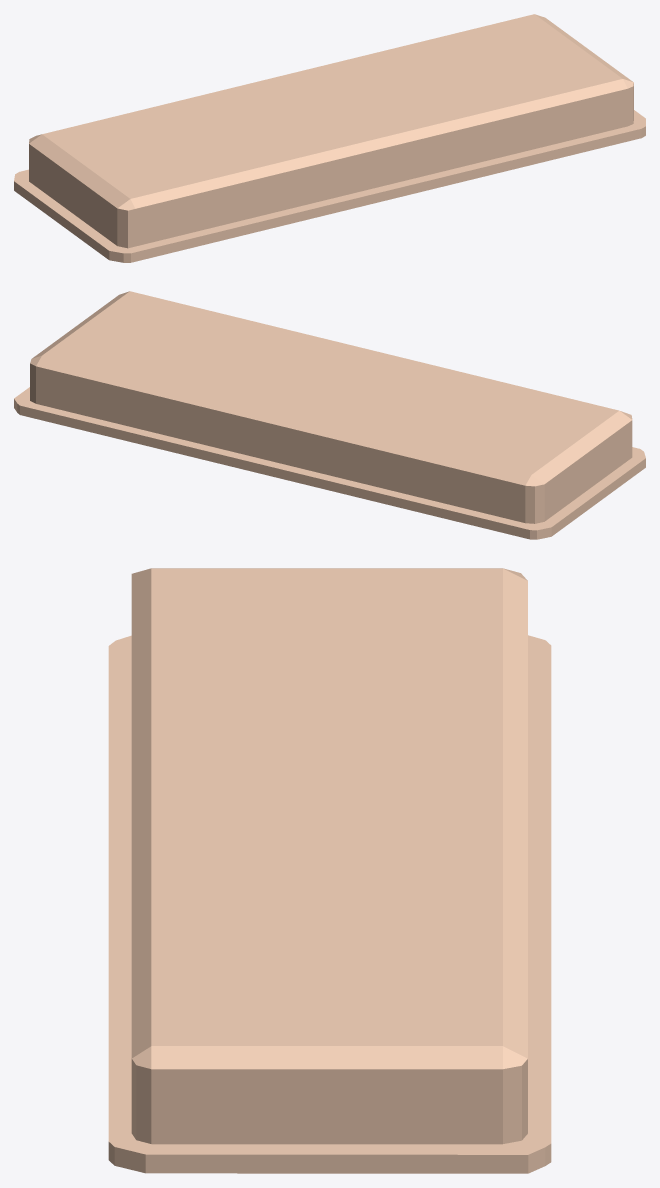
The model's file is EggCartonTop.fbx.
The picture shows the model from 3 angles, top to bottom: view 1: azimuth 30°, elevation 25°; view 2: azimuth 150°, elevation 25°; view 3: azimuth 270°, elevation 25°; orthographic projection. The views are drawn at different scales.
Parts seen in each view (by area): view 1: EggCartonTop; view 2: EggCartonTop; view 3: EggCartonTop.
Part boxes in pixels (bbox=[...]): EggCartonTop: bbox=[14, 14, 645, 262]; EggCartonTop: bbox=[14, 291, 645, 539]; EggCartonTop: bbox=[108, 568, 551, 1173].
Size of the model in its own units: 1071 by 102 by 384.
